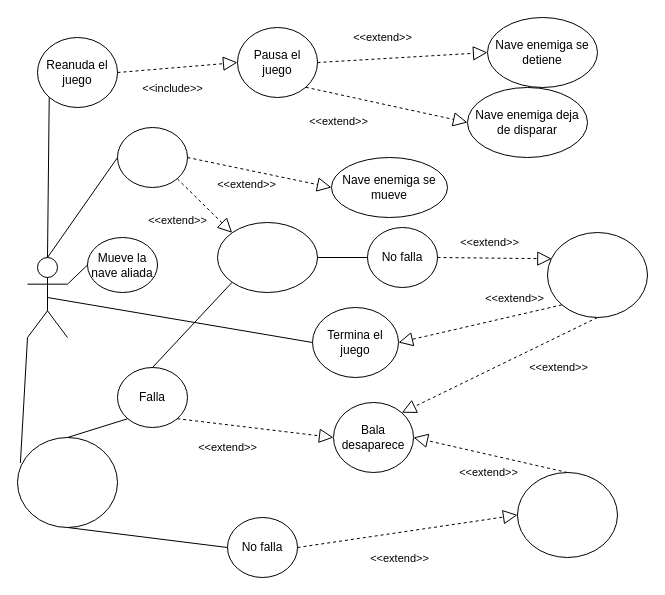
Image size: 665x595. Some labels were removed from this diagram. Each missing label, with the centre of its shape:
Actor: the point at 47,297
Dispara con la nave aliada: the point at 67,482
Inicia el juego: the point at 152,157
Nave aliada muere: the point at 597,275
Nave enemiga dispara: the point at 267,257
Nave enemiga muere: the point at 567,515
